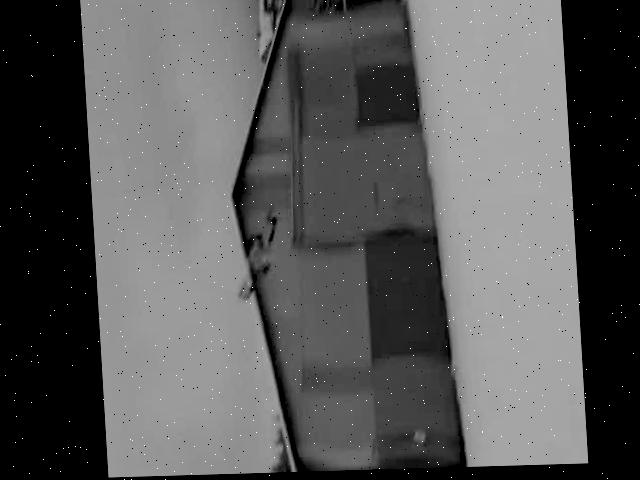drone: (208, 191, 303, 332)
